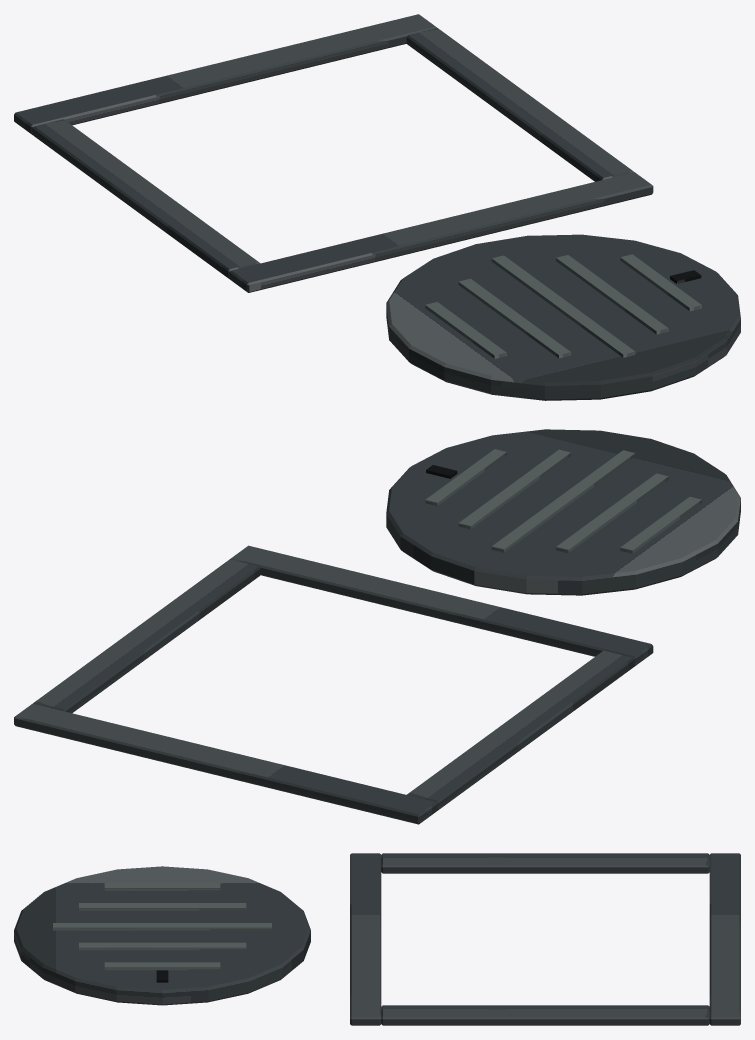
The model's file is manhole_frame.glb.
The picture shows the model from 3 angles, top to bottom: view 1: azimuth 30°, elevation 25°; view 2: azimuth 150°, elevation 25°; view 3: azimuth 270°, elevation 25°; orthographic projection. The views are drawn at different scales.
Visible parts, largest first — view 1: Lid, FrameS, FrameN, FrameW, FrameE, LidRib2, LidRib3, LidRib1, LidRib0, LidRib4; view 2: Lid, FrameN, FrameS, FrameW, FrameE, LidRib2, LidRib3, LidRib1, LidRib0, LidRib4; view 3: Lid, FrameE, FrameW, FrameN, FrameS, LidRib2, LidRib3, LidRib1, LidRib4, LidRib0.
Boxes of the visible parts, x1=… form: Lid: x1=386, y1=234, x2=740, y2=400; FrameS: x1=230, y1=172, x2=653, y2=292; FrameN: x1=14, y1=14, x2=436, y2=134; FrameW: x1=32, y1=119, x2=260, y2=279; FrameE: x1=406, y1=28, x2=634, y2=181; LidRib2: x1=491, y1=255, x2=635, y2=357; LidRib3: x1=556, y1=255, x2=668, y2=334; LidRib1: x1=458, y1=278, x2=570, y2=358; LidRib0: x1=425, y1=302, x2=506, y2=358; LidRib4: x1=620, y1=254, x2=701, y2=311; Lid: x1=386, y1=429, x2=740, y2=595; FrameN: x1=14, y1=703, x2=437, y2=824; FrameS: x1=230, y1=545, x2=653, y2=666; FrameW: x1=407, y1=650, x2=634, y2=810; FrameE: x1=33, y1=559, x2=260, y2=712; LidRib2: x1=491, y1=450, x2=635, y2=552; LidRib3: x1=458, y1=449, x2=570, y2=529; LidRib1: x1=556, y1=473, x2=668, y2=552; LidRib0: x1=620, y1=496, x2=701, y2=553; LidRib4: x1=425, y1=449, x2=506, y2=506; Lid: x1=14, y1=866, x2=310, y2=1005; FrameE: x1=381, y1=1005, x2=709, y2=1025; FrameW: x1=381, y1=853, x2=709, y2=873; FrameN: x1=709, y1=853, x2=740, y2=1025; FrameS: x1=350, y1=853, x2=381, y2=1025; LidRib2: x1=53, y1=923, x2=271, y2=930; LidRib3: x1=79, y1=942, x2=246, y2=950; LidRib1: x1=79, y1=903, x2=246, y2=910; LidRib4: x1=104, y1=962, x2=220, y2=970; LidRib0: x1=104, y1=883, x2=220, y2=890.
Size of the model in its own units: 1 by 0.052 by 1.86.
2 materials, 2 textured.
